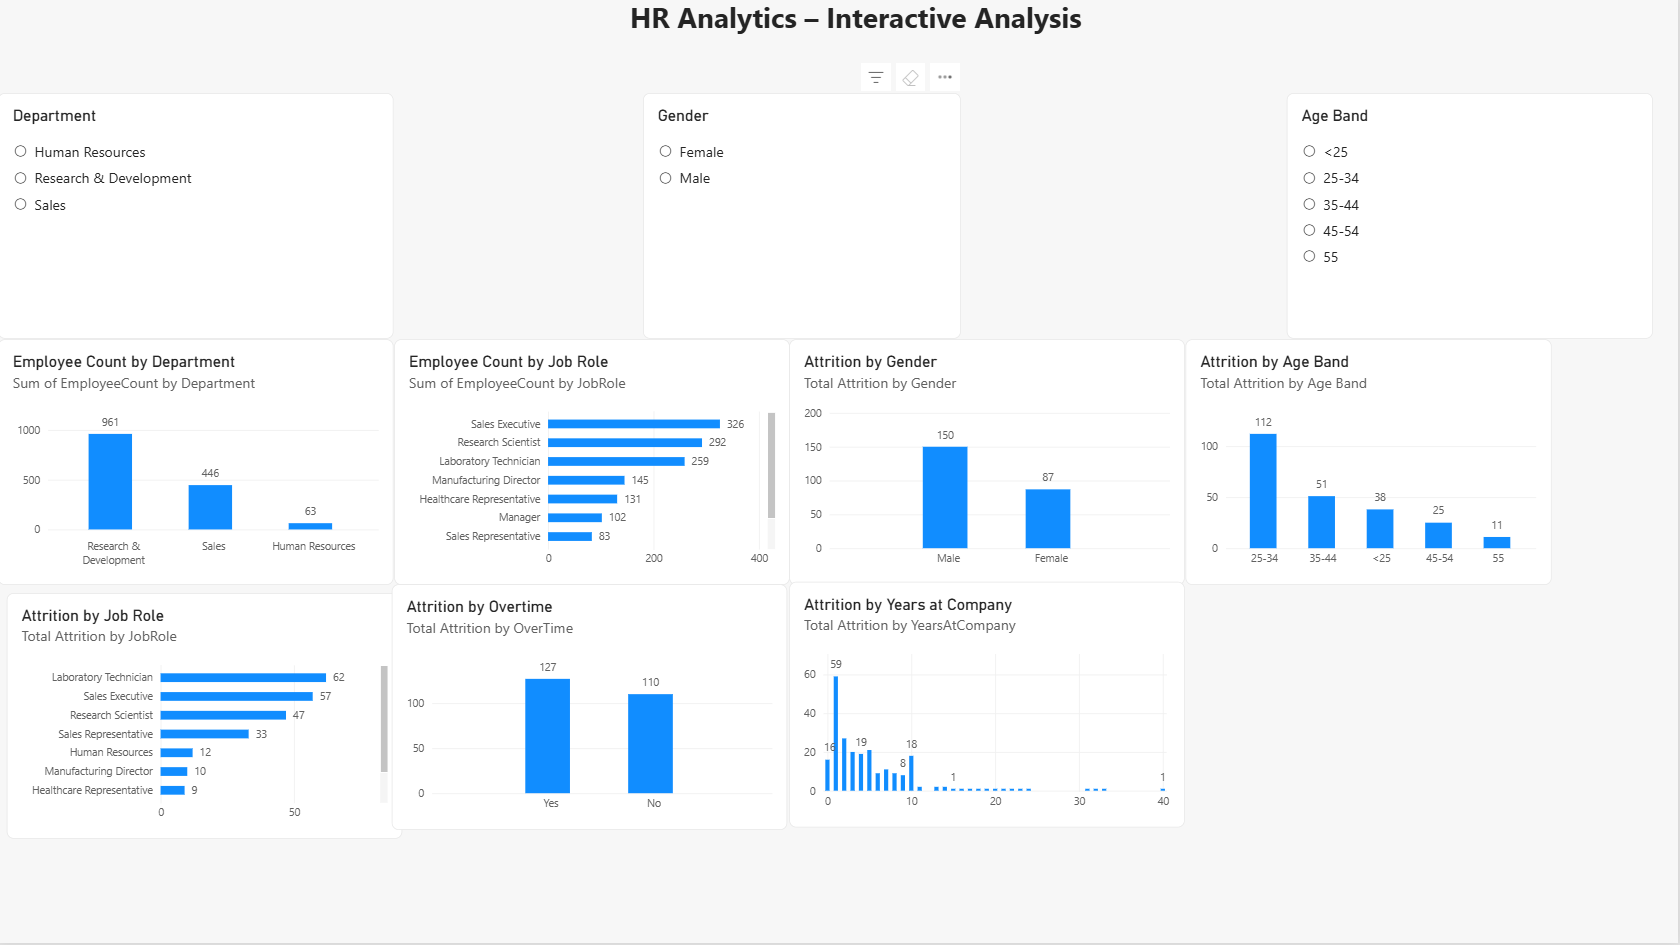

What the dashboard file says about the page in this screenshot:
{"tool":"powerbi","page":{"name":"Page 4","canvas":[1920,1080],"ordinal":3},"visuals":[{"type":"listSlicer","fields":{"Values":["HR.Department"]},"box":[0,108.8,452.3,280.6],"z":1},{"type":"listSlicer","fields":{"Values":["HR.Gender"]},"box":[737.7,108.8,362.8,280.6],"z":2},{"type":"listSlicer","fields":{"Values":["HR.Age Band"]},"box":[1473,108.8,418.4,280.6],"z":3},{"type":"clusteredColumnChart","title":"Employee Count by Department","fields":{"Category":["HR.Department"],"Y":["Sum(HR.EmployeeCount)"]},"box":[0,389.4,452.3,280.6],"z":4},{"type":"clusteredBarChart","title":"Employee Count by Job Role","fields":{"Category":["HR.JobRole"],"Y":["Sum(HR.EmployeeCount)"]},"box":[452.3,389.4,452,281],"z":5},{"type":"clusteredColumnChart","title":"Attrition by Gender","fields":{"Category":["HR.Gender"],"Y":["HR.Total Attrition"]},"box":[904.6,389.4,452,281],"z":6},{"type":"clusteredColumnChart","title":"Attrition by Age Band","fields":{"Category":["HR.Age Band"],"Y":["HR.Total Attrition"]},"box":[1356.9,389.4,418,281],"z":7},{"type":"clusteredBarChart","title":"Attrition by Job Role","fields":{"Category":["HR.JobRole"],"Y":["HR.Total Attrition"]},"box":[9.7,679.7,452,281],"z":8},{"type":"clusteredColumnChart","title":"Attrition by Overtime","fields":{"Category":["HR.OverTime"],"Y":["HR.Total Attrition"]},"box":[449.9,670,452,281],"z":9},{"type":"clusteredColumnChart","title":"Attrition by Years at Company","fields":{"Category":["HR.YearsAtCompany"],"Y":["HR.Total Attrition"]},"box":[904.6,667.6,452,281],"z":10},{"type":"textbox","box":[186.2,0,1589.1,77.4],"z":11}]}

Visuals, with their boxes in screenshot pixels (x1, y1, x2, y2), scaled from the page's 1920x1080 canvas onto the 1680x945 screenshot:
listSlicer - HR.Department: x1=0 y1=95 x2=396 y2=341
listSlicer - HR.Gender: x1=645 y1=95 x2=963 y2=341
listSlicer - HR.Age Band: x1=1289 y1=95 x2=1655 y2=341
"Employee Count by Department" clusteredColumnChart: x1=0 y1=341 x2=396 y2=586
"Employee Count by Job Role" clusteredBarChart: x1=396 y1=341 x2=791 y2=587
"Attrition by Gender" clusteredColumnChart: x1=792 y1=341 x2=1187 y2=587
"Attrition by Age Band" clusteredColumnChart: x1=1187 y1=341 x2=1553 y2=587
"Attrition by Job Role" clusteredBarChart: x1=8 y1=595 x2=404 y2=841
"Attrition by Overtime" clusteredColumnChart: x1=394 y1=586 x2=789 y2=832
"Attrition by Years at Company" clusteredColumnChart: x1=792 y1=584 x2=1187 y2=830
textbox: x1=163 y1=0 x2=1553 y2=68
